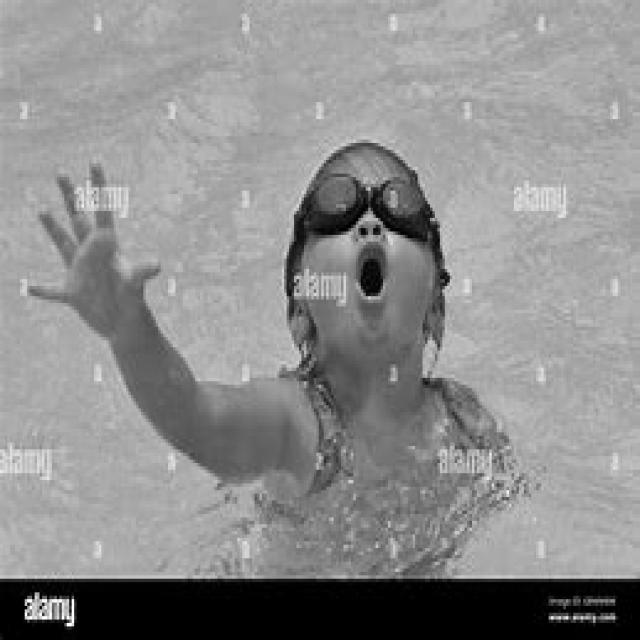drowning: (29, 77, 574, 552)
